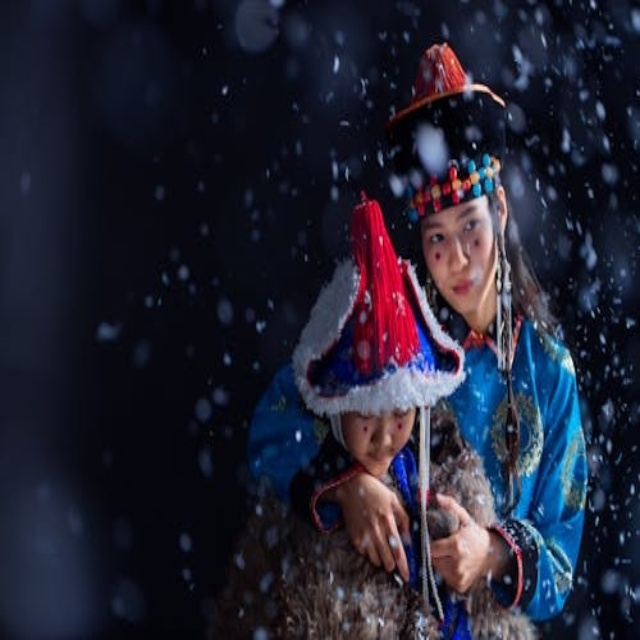Sin_gafas: (424, 202, 488, 250)
Sin_guantes: (336, 471, 414, 578), (423, 490, 496, 595)
Sin_mascara: (445, 273, 476, 313)
